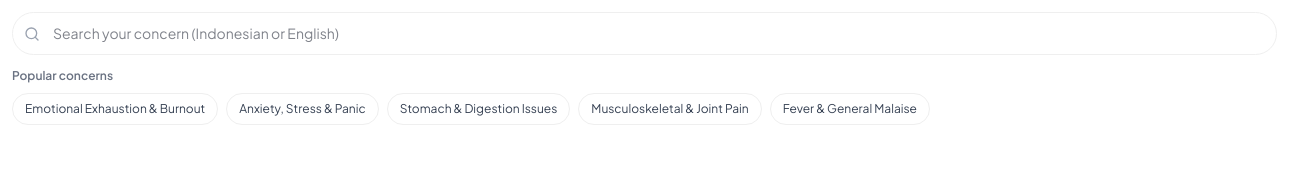
ComplaintSearch › shows a graceful fallback for a dead-end search
Type "zzz-no-such-topic" into the search field with placeholder "Search your concern (Indonesian or English)" at {"x": 644, "y": 34}, box top-left (12, 12), bottom-right (1277, 55)
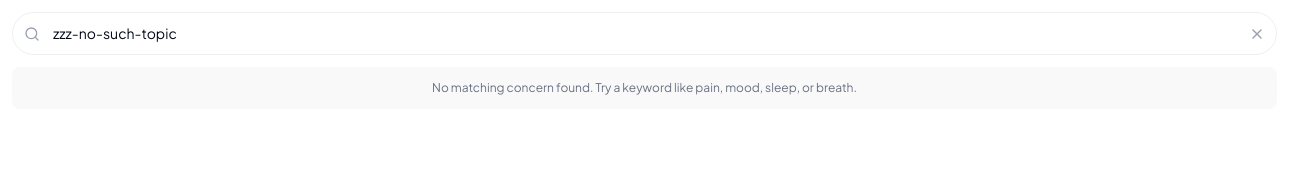
Result: the text "No matching concern found" is shown at top-left (432, 80), bottom-right (857, 95)
